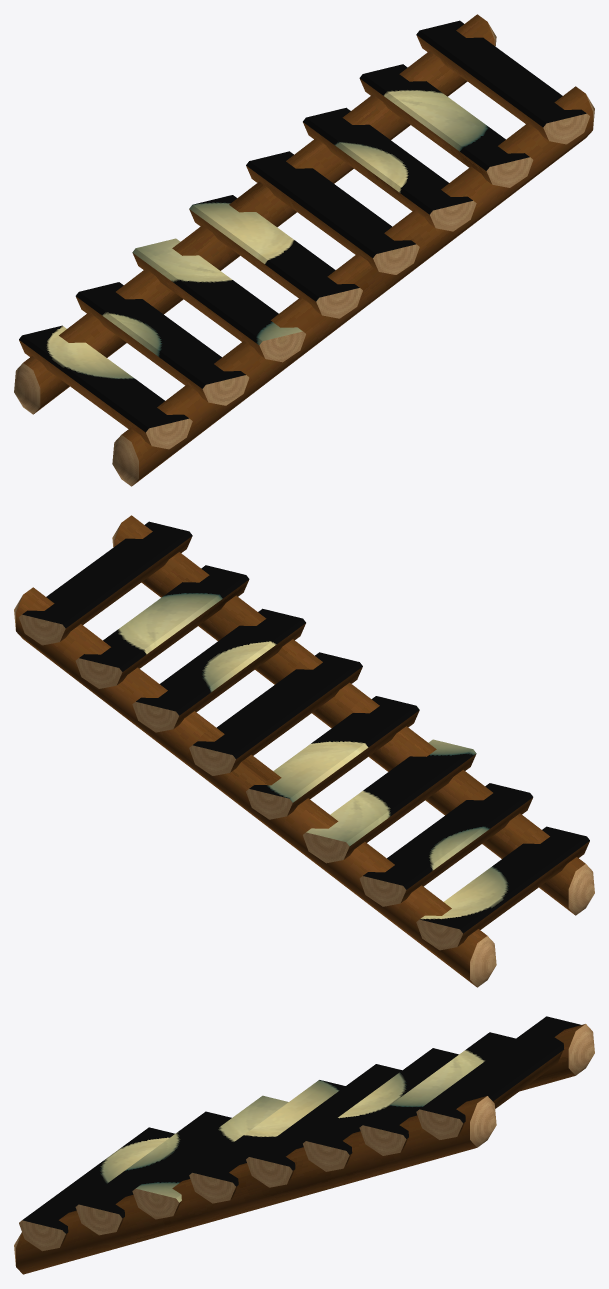
The model's file is Docks_Decking_Steps_1x2.fbx.
3 views of the same model, one above another, from view 1: azimuth 30°, elevation 25°; view 2: azimuth 150°, elevation 25°; view 3: azimuth 330°, elevation 25° (orthographic).
Parts seen in each view (by area): view 1: Docks_Decking_Steps_1x2; view 2: Docks_Decking_Steps_1x2; view 3: Docks_Decking_Steps_1x2.
Boxes of the visible parts, <box> form: Docks_Decking_Steps_1x2: <box>14,14,594,486</box>; Docks_Decking_Steps_1x2: <box>14,515,594,987</box>; Docks_Decking_Steps_1x2: <box>14,1016,594,1274</box>.
Size of the model in its own units: 212 by 119 by 96.88.
